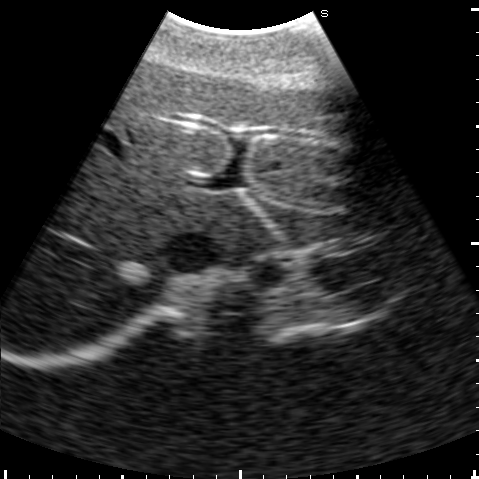IVC: (161, 231, 223, 275)
S1: (210, 195, 272, 261)
S2: (247, 189, 420, 249)
S3: (238, 86, 412, 206)
